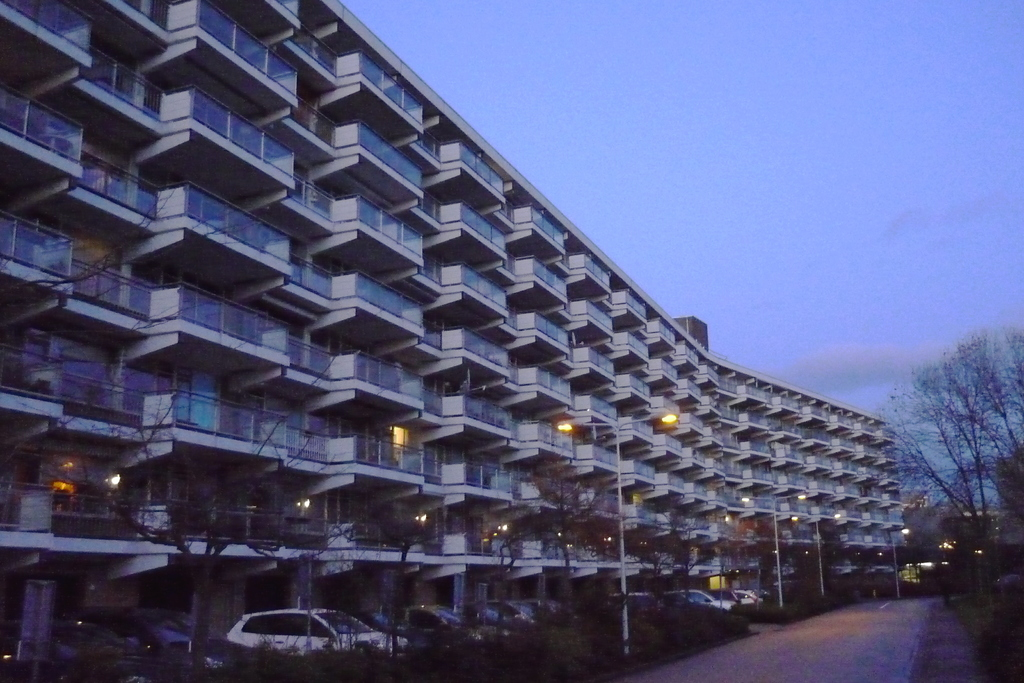Car: (0, 586, 769, 682)
